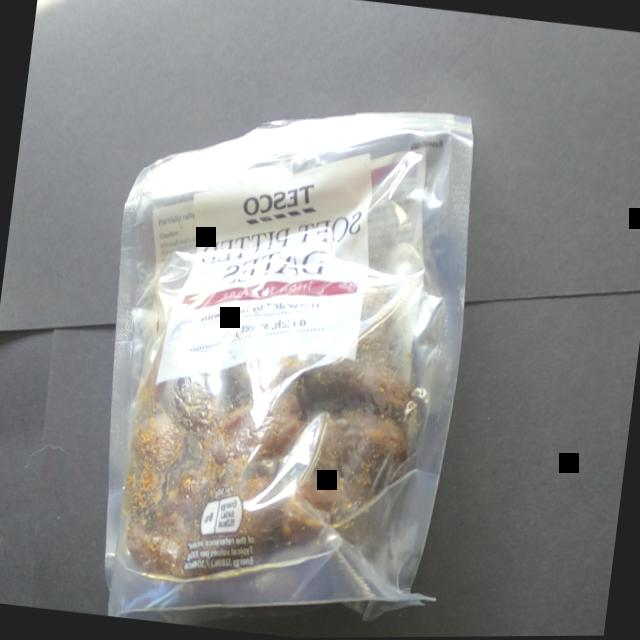Medjooldates: (68, 47, 506, 640)
